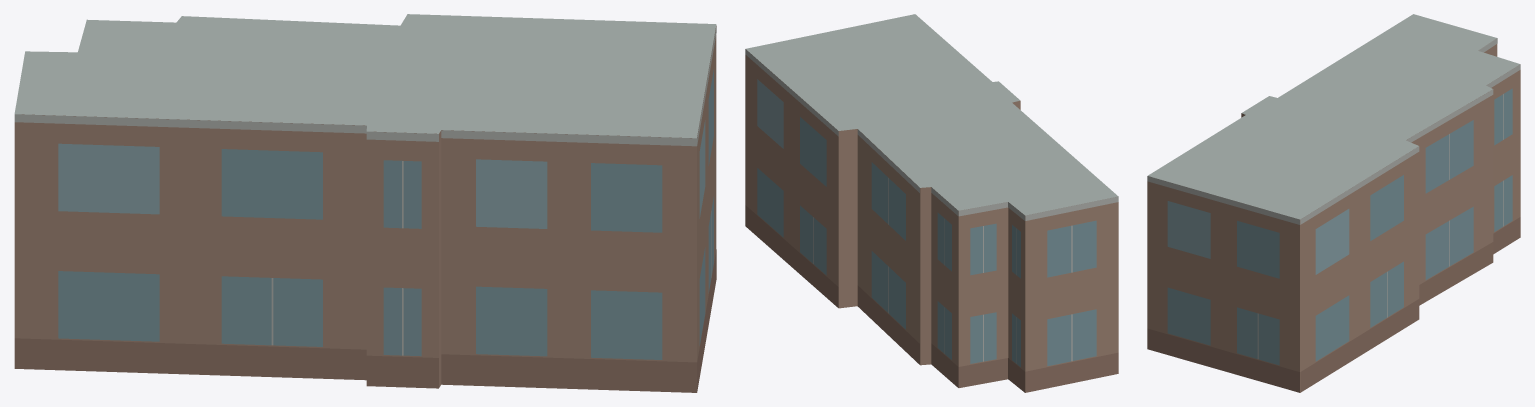
File: survey-upis-32631972.glb
The picture shows the model from 3 angles, left to right: view 1: azimuth 30°, elevation 25°; view 2: azimuth 150°, elevation 25°; view 3: azimuth 270°, elevation 25°; orthographic projection. The views are drawn at different scales.
Visible parts, largest first — view 1: survey-upis-32631972.tmp; view 2: survey-upis-32631972.tmp; view 3: survey-upis-32631972.tmp.
Boxes of the visible parts, x1,y1,x2,y2 form: survey-upis-32631972.tmp: (14, 14, 716, 392); survey-upis-32631972.tmp: (745, 14, 1118, 392); survey-upis-32631972.tmp: (1147, 14, 1520, 392).
Size of the model in its own units: 19.59 by 7.7 by 15.03.
